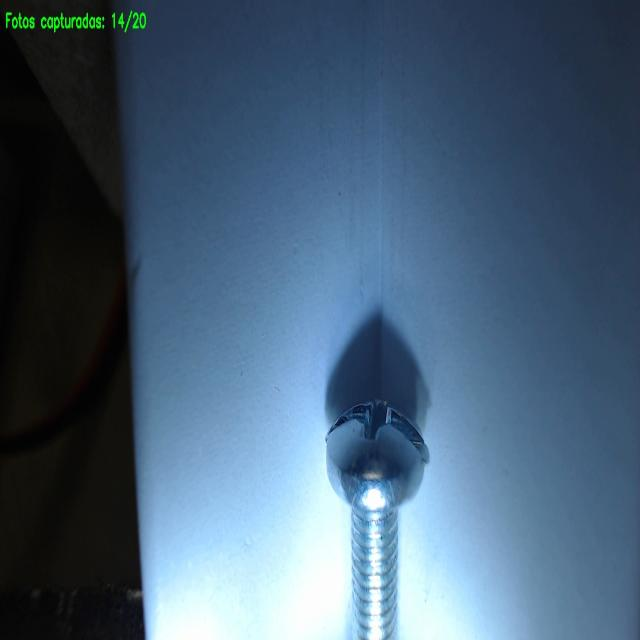vastago: (351, 510, 398, 639)
